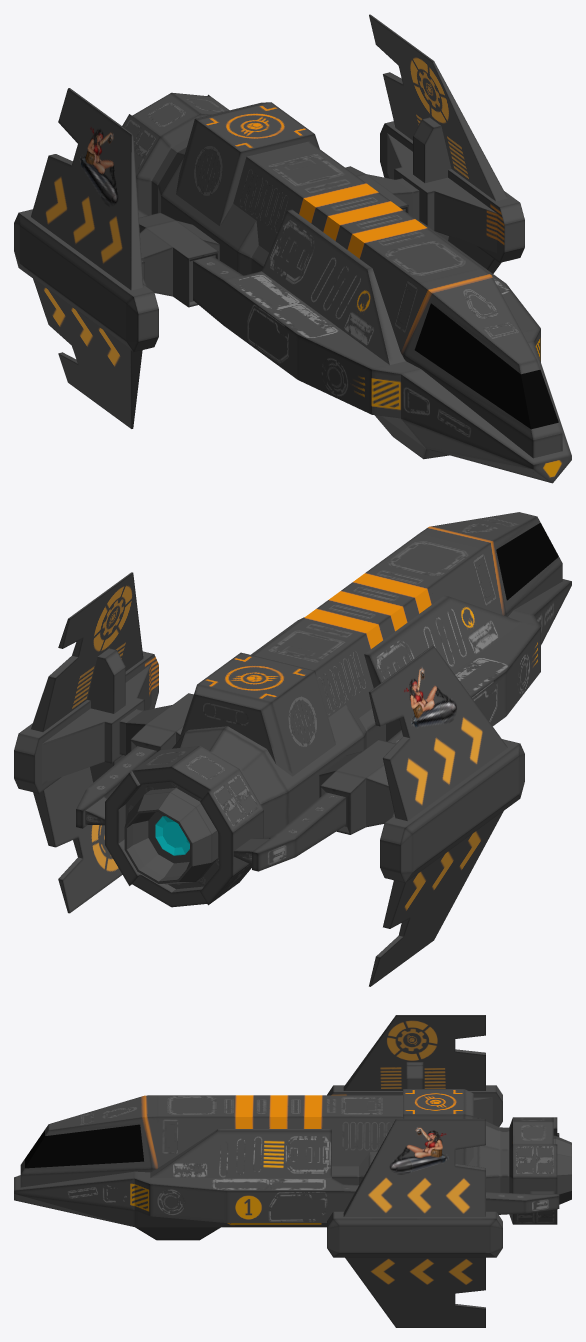
3 views of the same model, one above another, from view 1: azimuth 30°, elevation 25°; view 2: azimuth 150°, elevation 25°; view 3: azimuth 270°, elevation 25° (orthographic). The views are drawn at different scales.
Parts seen in each view (by area): view 1: wings-material, body-material, frame-material, window_001-material; view 2: wings-material, body-material, frame-material, engine-material, window_001-material; view 3: wings-material, body-material, frame-material, window_001-material, engine-material.
Boxes of the visible parts, bbox=[...] form: wings-material: bbox=[14, 14, 524, 428]; body-material: bbox=[122, 92, 562, 458]; frame-material: bbox=[138, 209, 571, 483]; window_001-material: bbox=[414, 303, 558, 429]; wings-material: bbox=[14, 572, 524, 986]; body-material: bbox=[105, 512, 562, 907]; frame-material: bbox=[76, 579, 571, 871]; engine-material: bbox=[124, 788, 217, 884]; window_001-material: bbox=[496, 523, 558, 600]; wings-material: bbox=[327, 1015, 502, 1327]; body-material: bbox=[20, 1089, 557, 1224]; frame-material: bbox=[14, 1127, 559, 1240]; window_001-material: bbox=[25, 1124, 143, 1168]; engine-material: bbox=[553, 1135, 571, 1204].
Size of what is drawn, in the model's own units: 4.51 by 3.23 by 7.85.
Materials: 5 (5 with a texture image).
